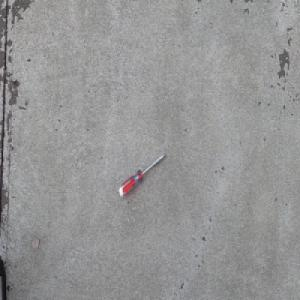Screwdriver: (118, 152, 167, 198)
